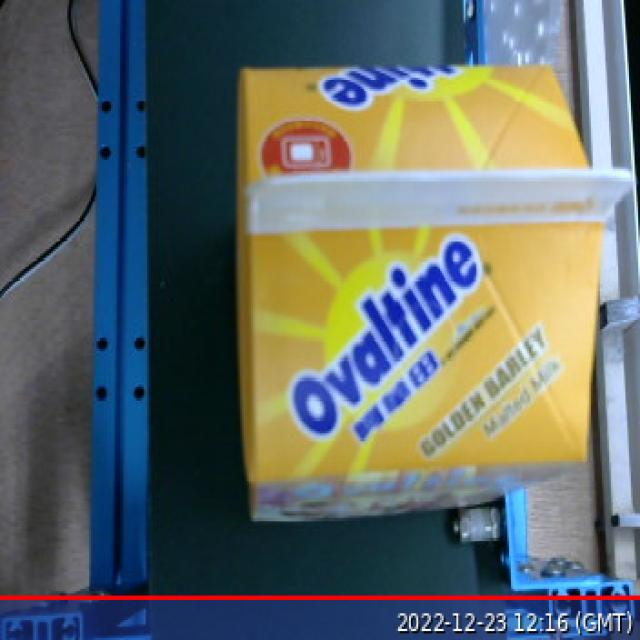non_white_jug: (225, 42, 640, 529)
